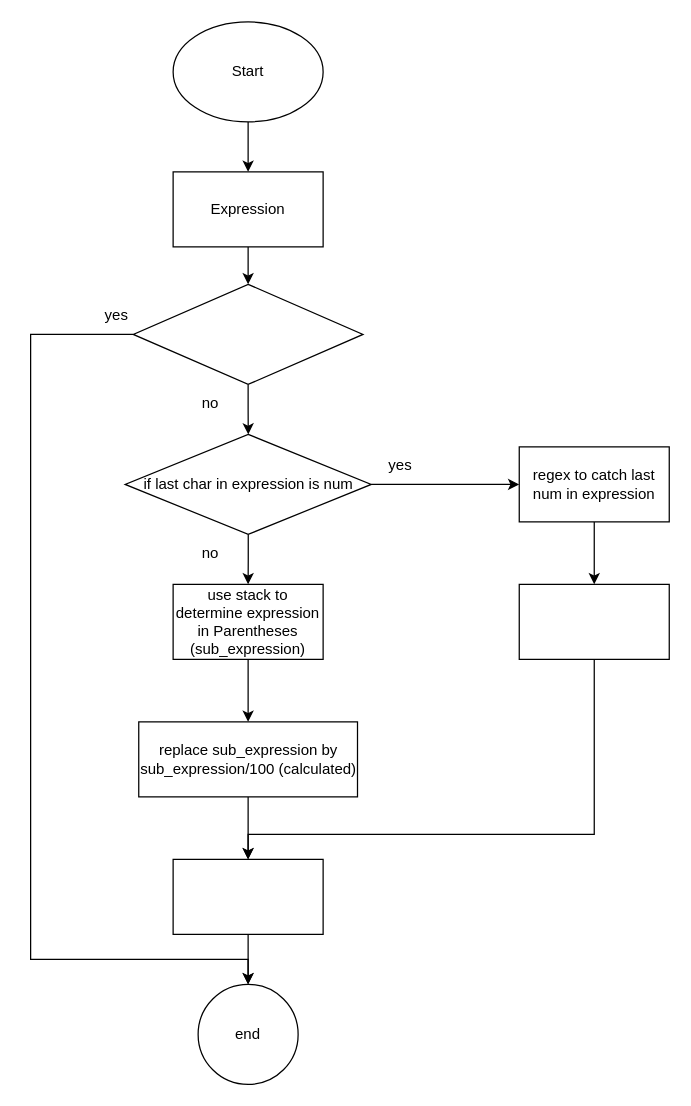
This 691x1106 diagram has some shape labels left out. Each missing label, with the centre of its shape:
if expression is empty: the point at 247,333
replace last num in expresion by num/100 (calculated): the point at 593,621
return processed expression: the point at 247,896
